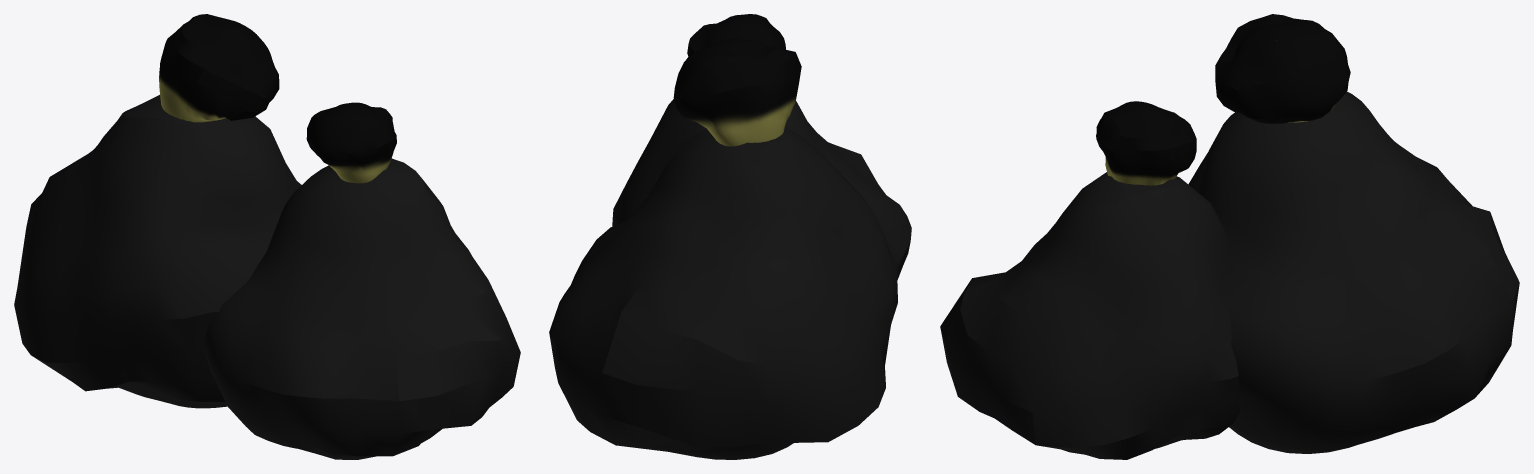
Rendered from Lixo.glb.
3 renders of one model, left to right at view 1: azimuth 30°, elevation 25°; view 2: azimuth 150°, elevation 25°; view 3: azimuth 270°, elevation 25°, orthographic. The views are drawn at different scales.
Parts seen in each view (by area): view 1: Esfera UV.003; view 2: Esfera UV.003; view 3: Esfera UV.003.
Part boxes in pixels (x1,y1,x2,y2): Esfera UV.003: (14, 14, 520, 459); Esfera UV.003: (549, 14, 911, 459); Esfera UV.003: (940, 14, 1519, 459).
Bounding box in the file's own units: 3.47 × 3.66 × 4.81.
Materials: 2 (1 with a texture image).
